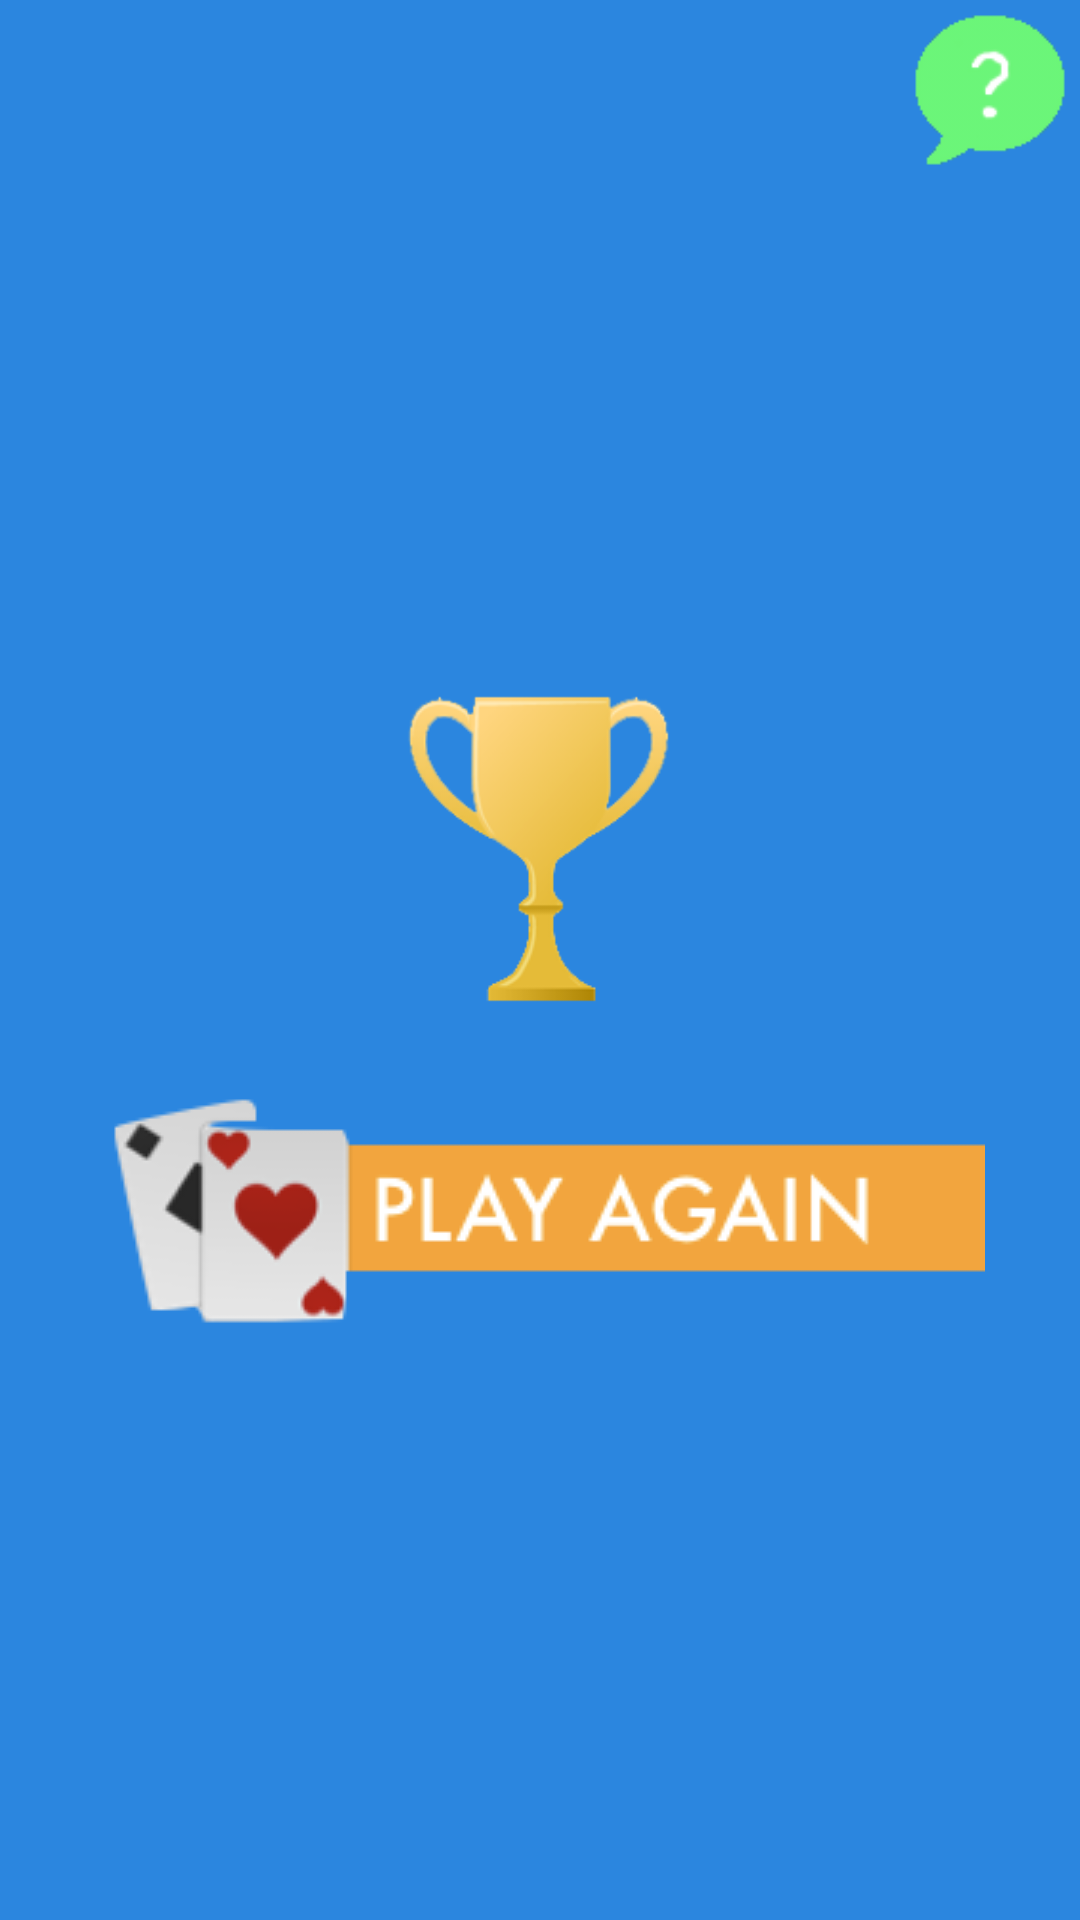

Named icons in this screenshot (1080w x 1920h) and their bounding boxes, (x1, y1, x2, y2):
ask question: (915, 15, 1065, 165)
winning symbol: (409, 696, 669, 1001)
